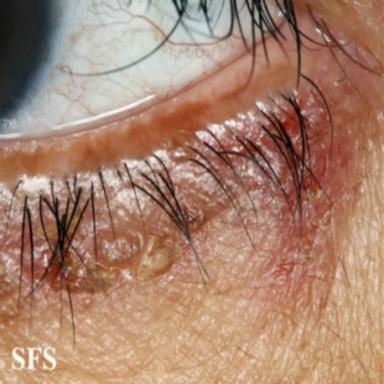Hailey-Hailey-Disease: (210, 87, 363, 302)
